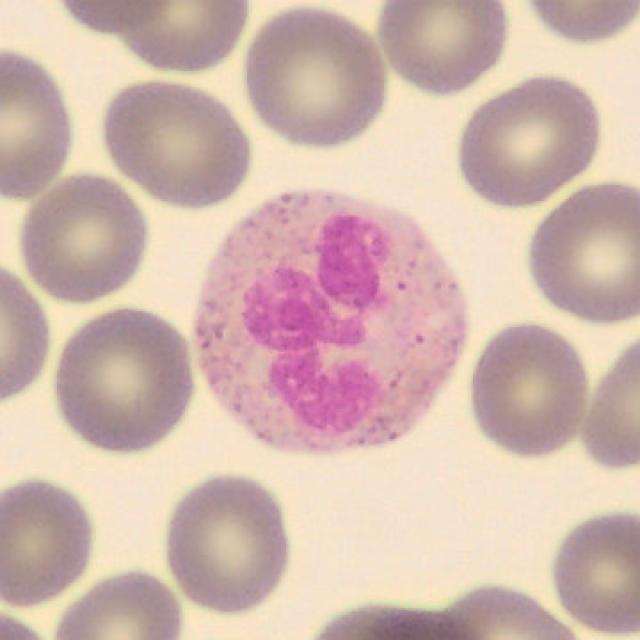Neutrofilo segmentado: (190, 188, 470, 457)
